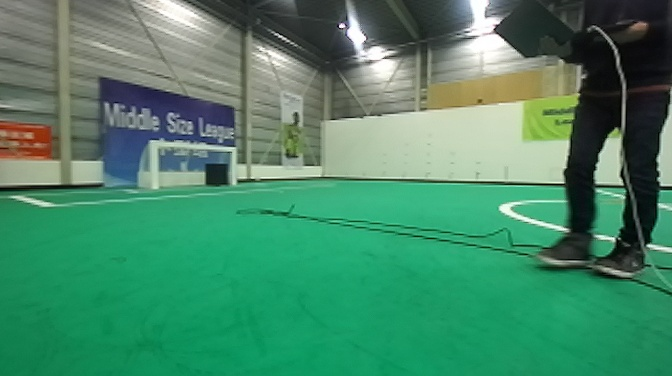goalpost: (148, 138, 160, 190), (227, 145, 237, 188)
human: (517, 4, 668, 293)
